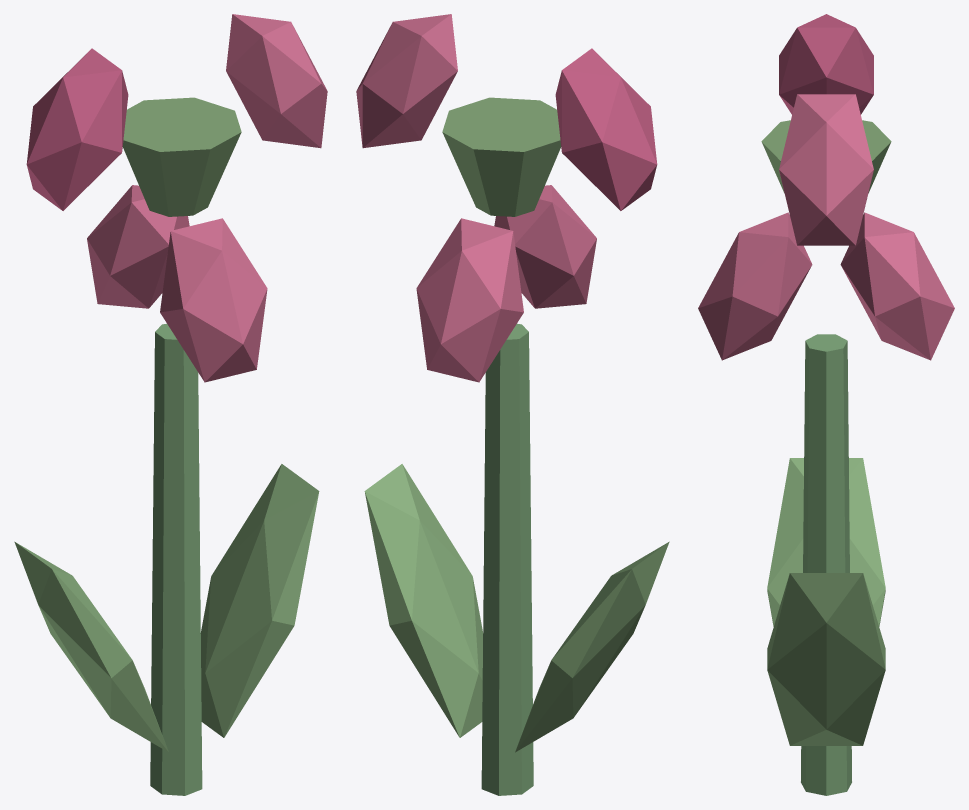
The picture shows the model from 3 angles, left to right: view 1: azimuth 30°, elevation 25°; view 2: azimuth 150°, elevation 25°; view 3: azimuth 270°, elevation 25°; orthographic projection. The views are drawn at different scales.
Visible parts, largest first — view 1: part0, part6, part5, part3, part1, part2, part7, part4; view 2: part0, part6, part4, part3, part1, part2, part7, part5; view 3: part6, part0, part2, part4, part5, part7, part3, part1.
Part boxes in pixels (x1,y1,x2,y2): part0: [150, 323, 202, 795]; part6: [200, 464, 319, 737]; part5: [160, 218, 267, 382]; part3: [26, 48, 128, 210]; part1: [122, 97, 241, 216]; part2: [226, 14, 327, 148]; part7: [14, 541, 168, 752]; part4: [87, 185, 189, 308]; part0: [481, 323, 533, 795]; part6: [364, 464, 483, 737]; part4: [416, 218, 523, 382]; part3: [555, 48, 657, 210]; part1: [442, 97, 561, 216]; part2: [356, 14, 457, 148]; part7: [515, 541, 669, 752]; part5: [494, 185, 596, 308]; part6: [767, 573, 885, 745]; part0: [801, 334, 851, 795]; part2: [779, 94, 873, 245]; part4: [840, 212, 954, 360]; part5: [698, 212, 812, 360]; part7: [767, 458, 885, 626]; part3: [779, 14, 873, 114]; part1: [761, 120, 891, 193].
Size of the model in its own units: 2.19 by 5.16 by 1.66.
